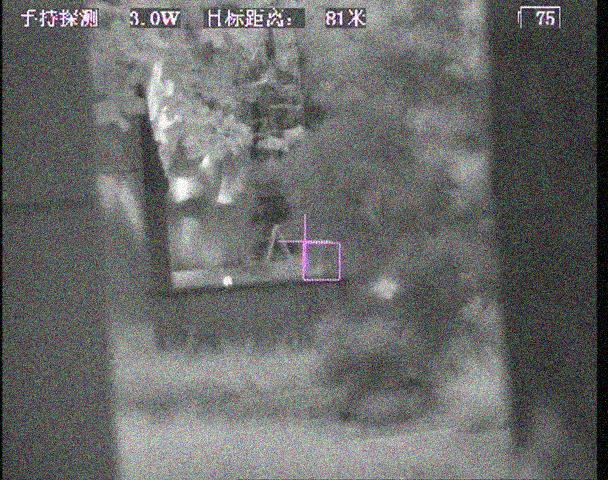my: (222, 274, 233, 287)
